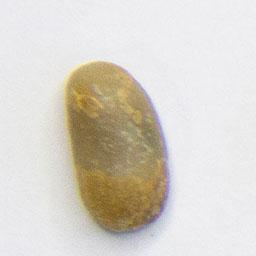longberry: (60, 55, 176, 238)
